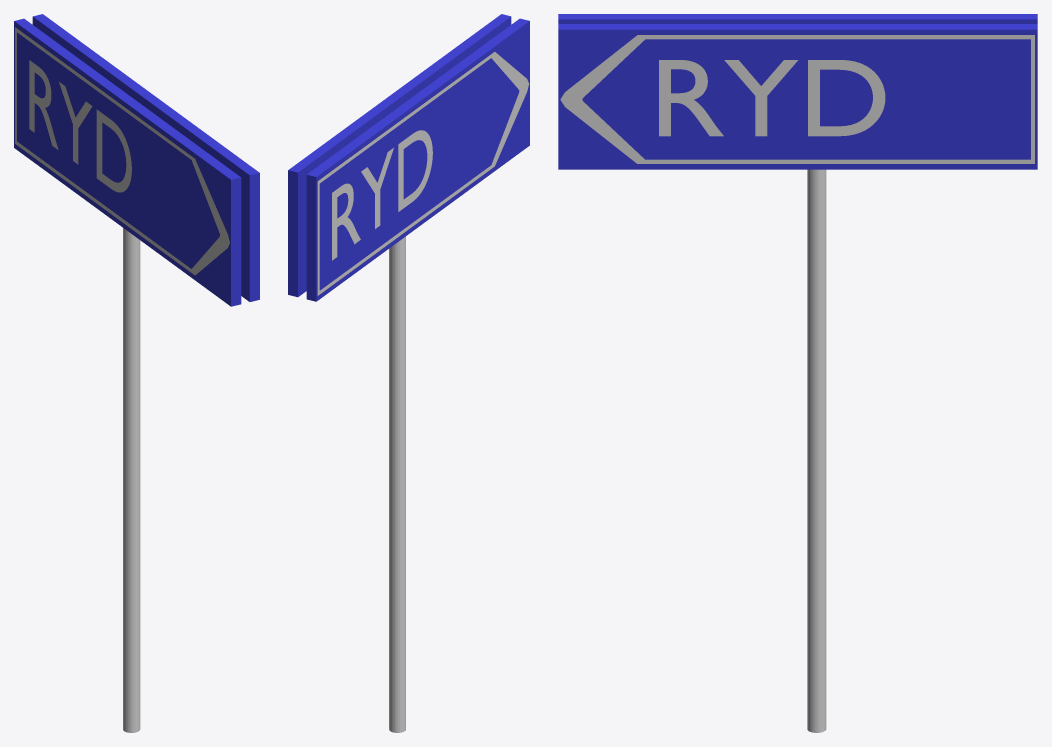
File: rydsign.fbx
3 views of the same model, side by side, from view 1: azimuth 30°, elevation 25°; view 2: azimuth 150°, elevation 25°; view 3: azimuth 270°, elevation 25° (orthographic). The views are drawn at different scales.
Parts seen in each view (by area): view 1: Cube.012, Cylinder, Cube.011, Text.004, Plane.002; view 2: Cube.012, Cylinder, Cube.011, Plane.002, Text.004; view 3: Cube.011, Cylinder, Plane.001, Text.003, Cube.012.
Part boxes in pixels (x1,y1,x2,y2): Cube.012: [14, 18, 241, 306]; Cylinder: [123, 228, 140, 732]; Cube.011: [32, 14, 259, 301]; Text.004: [29, 60, 131, 192]; Plane.002: [15, 27, 229, 275]; Cube.012: [306, 18, 529, 301]; Cylinder: [389, 236, 405, 732]; Cube.011: [288, 14, 511, 297]; Plane.002: [317, 52, 528, 295]; Text.004: [332, 130, 432, 260]; Cube.011: [558, 24, 1037, 169]; Cylinder: [807, 169, 826, 732]; Plane.001: [560, 35, 1034, 163]; Text.003: [659, 60, 885, 136]; Cube.012: [558, 14, 1037, 23].
Size of the model in its own units: 4.9 by 102 by 62.72.
